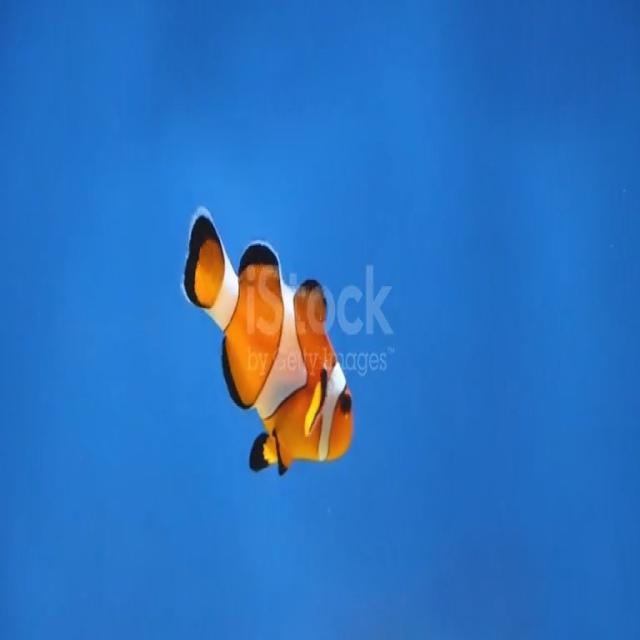fish: (178, 198, 360, 490)
